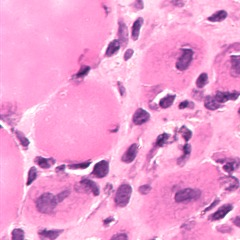New: (138, 162, 218, 226), (16, 171, 97, 225), (137, 29, 202, 93), (211, 40, 240, 96)
